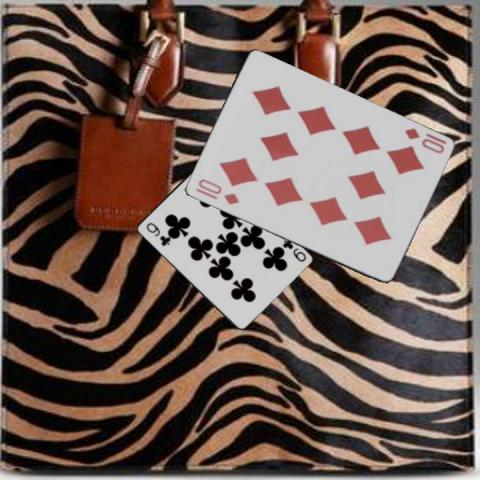10d: (195, 176, 240, 206), (402, 125, 446, 155)
9c: (142, 220, 170, 248), (280, 236, 308, 264)
